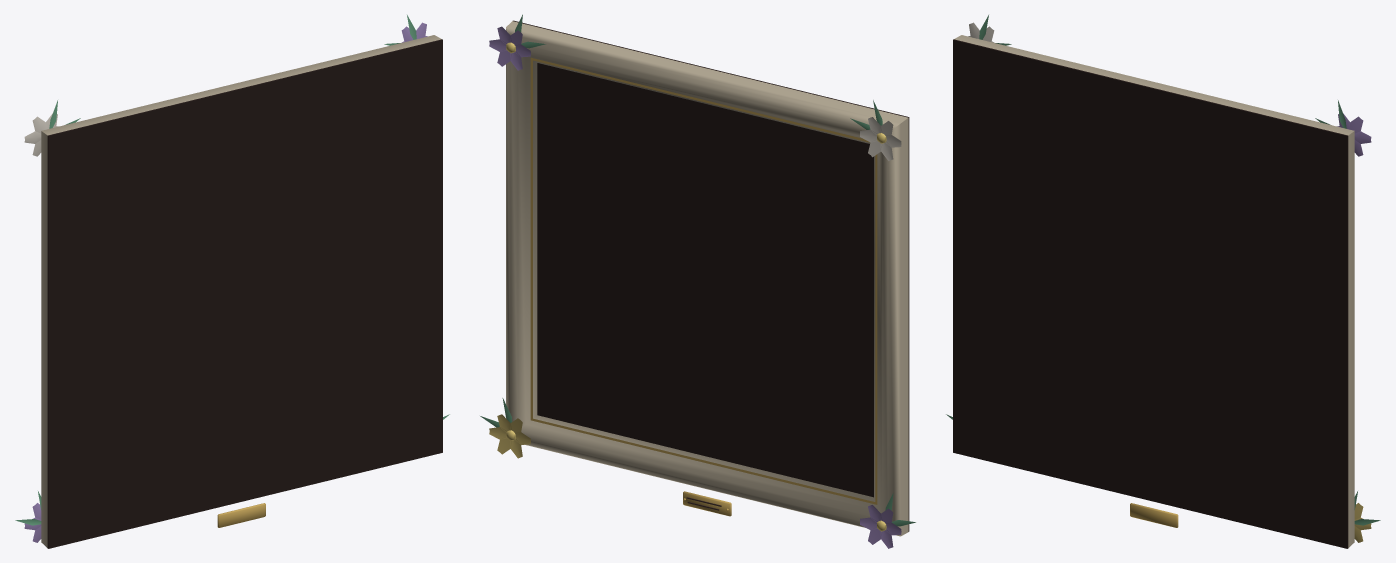
Rendered from crocus_spring_square.glb.
The picture shows the model from 3 angles, left to right: view 1: azimuth 30°, elevation 25°; view 2: azimuth 150°, elevation 25°; view 3: azimuth 330°, elevation 25°; orthographic projection.
Visible parts, largest first — view 1: crocus_spring_square; view 2: crocus_spring_square; view 3: crocus_spring_square.
Part boxes in pixels (left/top/right/bottom): crocus_spring_square: left=15, top=15, right=449, bottom=548; crocus_spring_square: left=480, top=14, right=915, bottom=548; crocus_spring_square: left=946, top=15, right=1380, bottom=548.
Size of what is drawn, in the model's own units: 1.27 by 1.28 by 0.0831.
